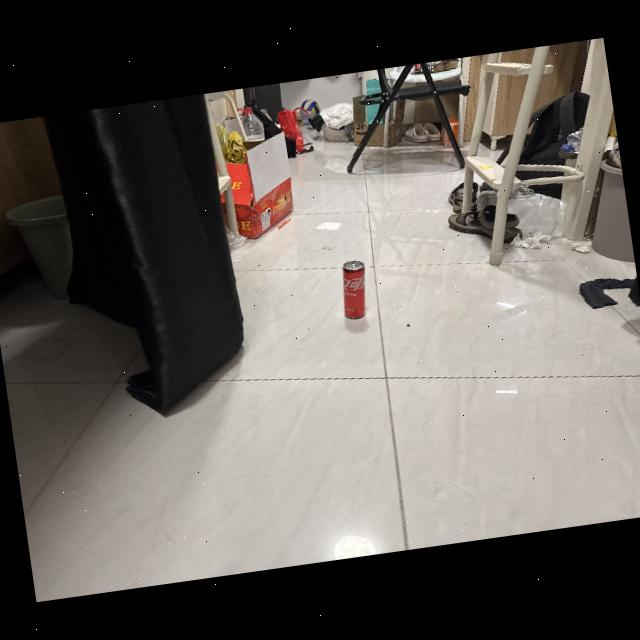Cola: (332, 255, 378, 329)
